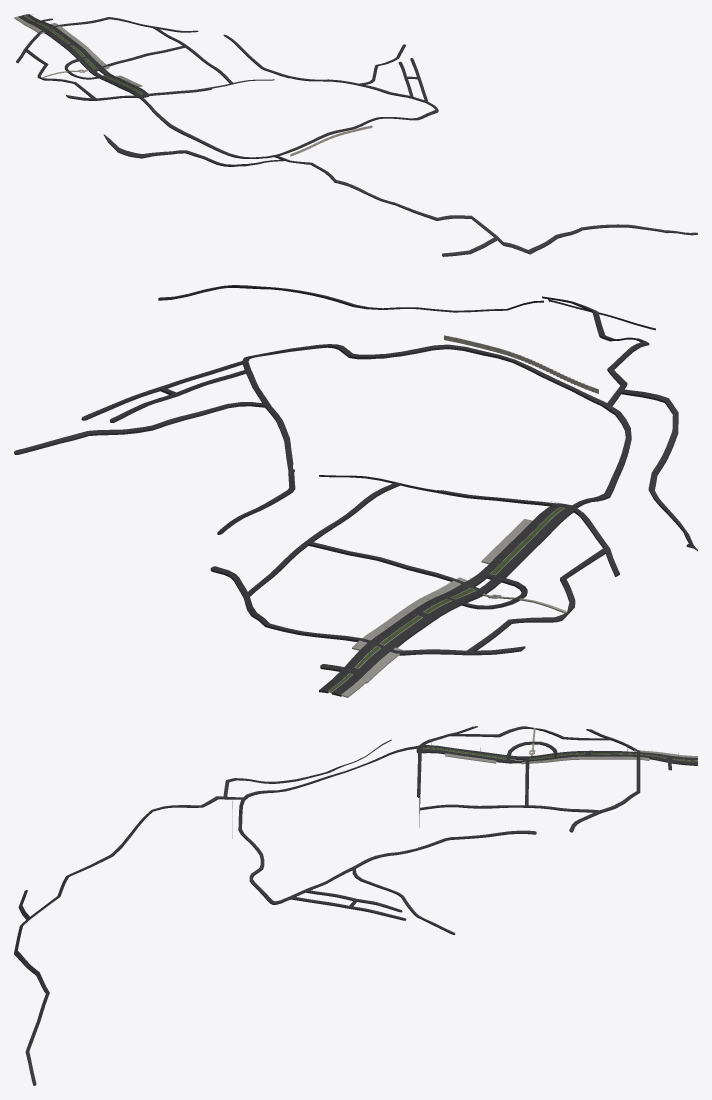
File: 15-27363-14874.ecf4c72e.glb
3 views of the same model, one above another, from view 1: azimuth 30°, elevation 25°; view 2: azimuth 150°, elevation 25°; view 3: azimuth 270°, elevation 25° (orthographic). The views are drawn at different scales.
Bounding box in the file's own units: 563 × 141 × 671.
